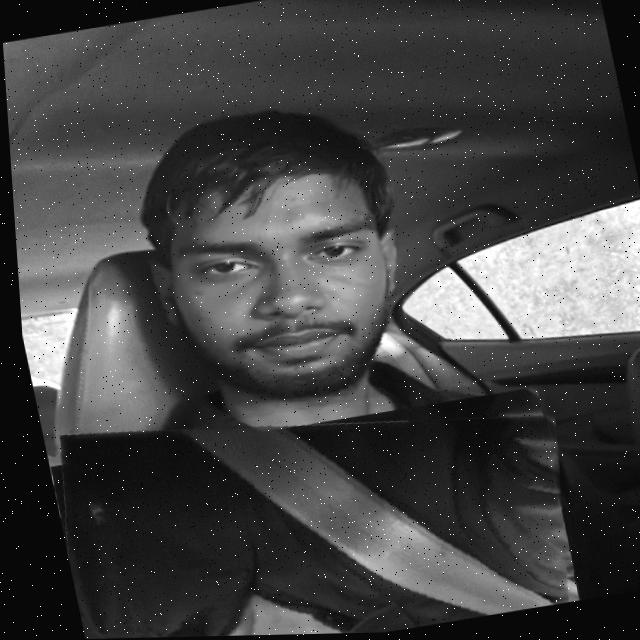seatbelt: (35, 370, 579, 640)
